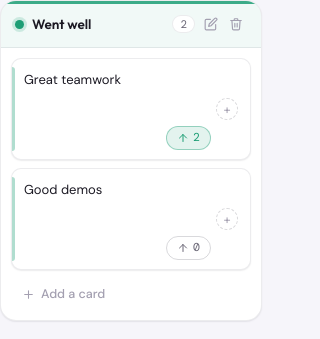
Scenario: Column › reverts title on Escape during edit
Click the text "Went well".
click(62, 24)  # box [32, 15, 91, 33]
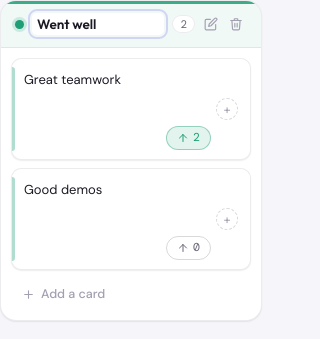
Replace the text in the field showing "Went well" with "Something else" at (98, 24), box [32, 13, 164, 35]
Then press Escape
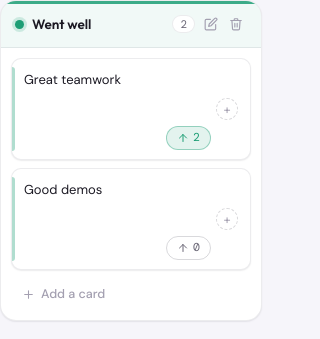
Result: the text "Went well" is shown at [32, 15, 91, 33]
